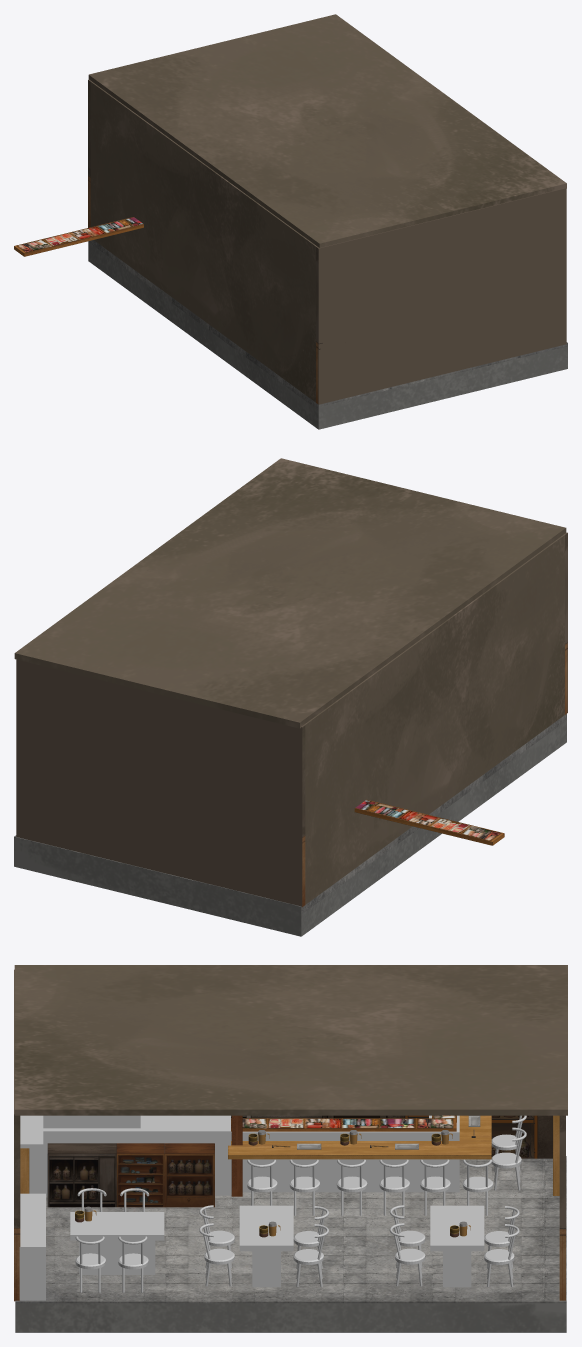
Rendered from sushi restaurant03.fbx.
3 views of the same model, one above another, from view 1: azimuth 30°, elevation 25°; view 2: azimuth 150°, elevation 25°; view 3: azimuth 270°, elevation 25° (orthographic). The views are drawn at different scales.
Parts seen in each view (by area): view 1: Cube.122, Cube.109, Cube.108, Cube.096, Cube.026; view 2: Cube.122, Cube.110, Cube.108, Cube.096, Cube.026; view 3: Cube.122, Cube.096, Cube.017, Cube.023, Cube.007, Cube.019, Cube.005, Cube.006, Cube.025, Cube.003, Cube.108, Cube.001 (+30 smaller).
Part boxes in pixels (x1,y1,x2,y2): Cube.122: [88, 14, 566, 247]; Cube.109: [316, 188, 566, 404]; Cube.108: [90, 81, 317, 402]; Cube.096: [88, 240, 567, 429]; Cube.026: [14, 217, 143, 256]; Cube.122: [14, 458, 566, 728]; Cube.110: [16, 659, 305, 907]; Cube.108: [304, 534, 564, 904]; Cube.096: [14, 714, 566, 936]; Cube.026: [354, 799, 504, 845]; Cube.122: [14, 965, 567, 1115]; Cube.096: [15, 1156, 566, 1332]; Cube.017: [231, 1115, 459, 1192]; Cube.023: [228, 1115, 491, 1159]; Cube.007: [47, 1143, 116, 1207]; Cube.019: [29, 1134, 230, 1195]; Cube.005: [164, 1143, 214, 1207]; Cube.006: [116, 1143, 164, 1207]; Cube.025: [231, 1118, 456, 1131]; Cube.003: [19, 1193, 45, 1300]; Cube.108: [231, 1115, 552, 1158]; Cube.001: [70, 1212, 164, 1240].
Bounding box in the file's own units: 404 × 194 × 438.
